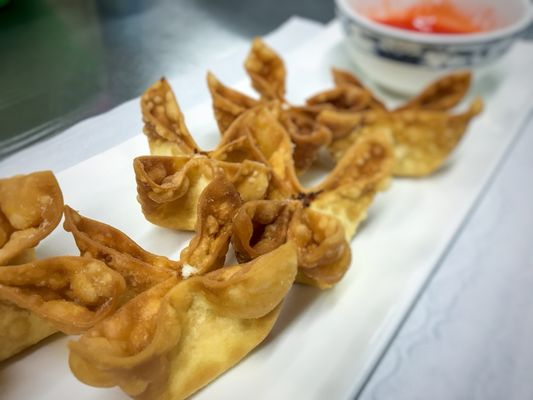sushi: (333, 0, 533, 110)
